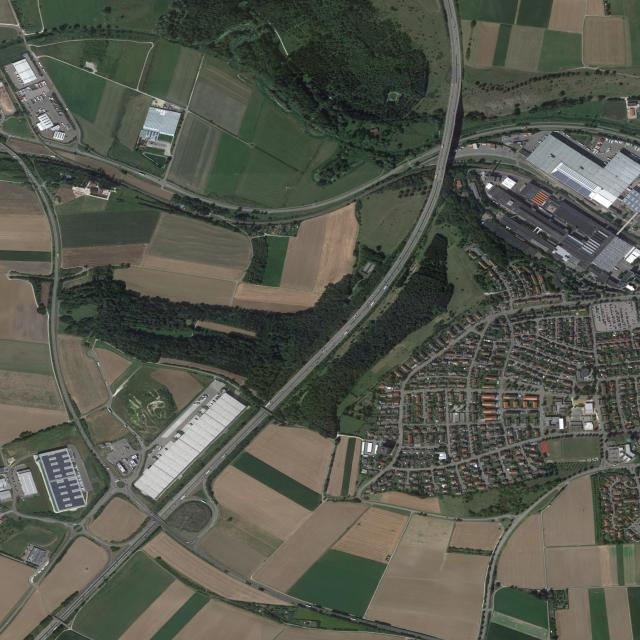large-vehicle: (370, 301, 375, 306), (158, 447, 162, 452), (97, 361, 100, 367), (599, 152, 605, 155), (353, 314, 357, 318), (344, 331, 348, 335), (606, 148, 611, 151), (115, 480, 120, 483), (605, 150, 610, 153), (566, 135, 571, 138), (321, 348, 325, 351), (521, 127, 527, 129), (57, 253, 59, 257), (435, 175, 437, 179)
